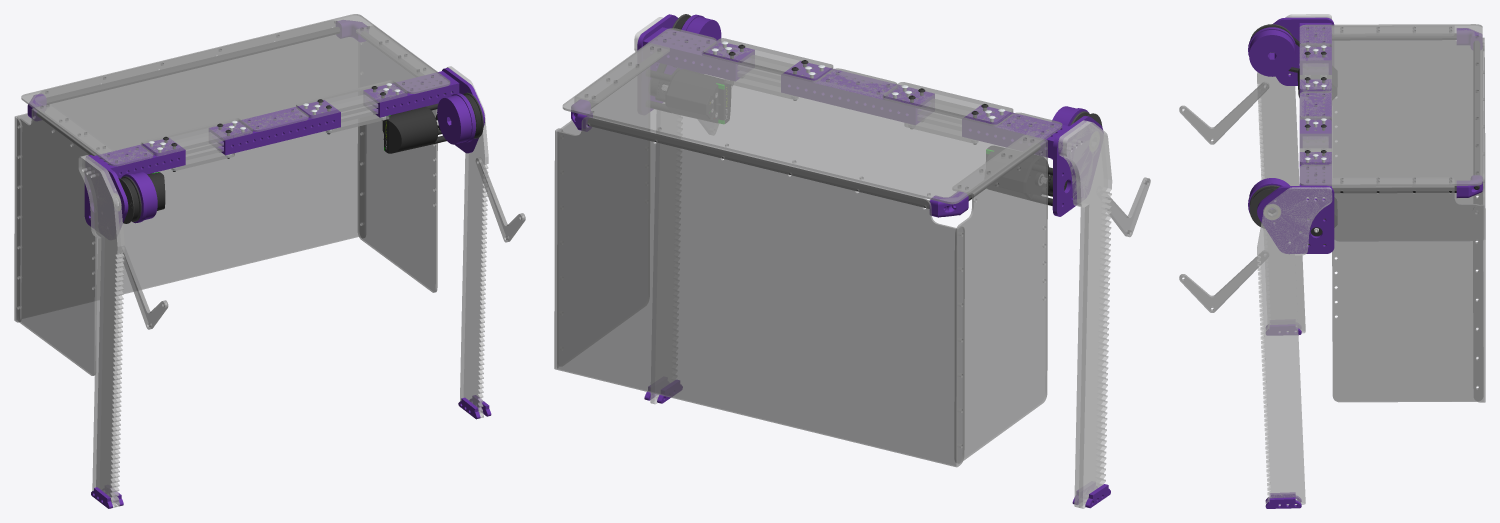
3 views of the same model, side by side, from view 1: azimuth 30°, elevation 25°; view 2: azimuth 150°, elevation 25°; view 3: azimuth 270°, elevation 25° (orthographic). The views are drawn at different scales.
Visible parts, largest first — view 1: 0200-Techo Poly Movible, 0200-Pared Poly Frontal, 10DP Gear Rack (35.5" L, #10-32 Clearance) (WCP-0543) (×3), 0200-Pared Poly Lateral Izquierda, 0200-Pared Poly Lateral Derecha, Part 1 (×5), perfil 3/16 5.25" (×2), 0200-Poly Hibrido Exterior 3 hoyos (×2), 0200-Flecha 3/8 21.5", Kraken X60 Brushless Motor, 0200-Kicker (×2), 0200-Poly Hibrido Interior (×2) (+1 smaller); view 2: 0200-Techo Poly Movible, 0200-Pared Poly Frontal, 10DP Gear Rack (35.5" L, #10-32 Clearance) (WCP-0543) (×3), 0200-Pared Poly Lateral Izquierda, 0200-Pared Poly Lateral Derecha, Part 1 (×3), perfil 3/16 5.25" (×2), 0200-Poly Hibrido Exterior 3 hoyos (×2), Kraken X60 Brushless Motor (×2), 0200-Flecha 3/8 21.5", 0200-Poly Hibrido Interior (×2), 0200-Kicker (+1 smaller); view 3: 0200-Pared Poly Lateral Derecha, 0200-Pared Poly Frontal, 0200-Pared Poly Lateral Izquierda, 10DP Gear Rack (35.5" L, #10-32 Clearance) (WCP-0543) (×3), Part 1 (×4), 0200-Techo Poly Movible, 0200-Poly Hibrido Exterior 3 hoyos (×2), 0200-Kicker (×2), perfil 3/16 5.25" (×2), 0200-Flecha 3/8 15" (×2), 0200-Flecha 3/8 21.5", 0200-Union 3D flechas 3/8 (×2) (+2 smaller).
Boxes of the visible parts, bbox=[...] form: 0200-Techo Poly Movible: bbox=[14, 21, 365, 322]; 0200-Pared Poly Frontal: bbox=[21, 14, 450, 166]; 10DP Gear Rack (35.5" L, #10-32 Clearance) (WCP-0543) (×3): bbox=[78, 66, 488, 507]; 0200-Pared Poly Lateral Izquierda: bbox=[16, 104, 113, 375]; 0200-Pared Poly Lateral Derecha: bbox=[356, 26, 437, 292]; Part 1 (×5): bbox=[84, 68, 484, 228]; perfil 3/16 5.25" (×2): bbox=[94, 71, 459, 178]; 0200-Poly Hibrido Exterior 3 hoyos (×2): bbox=[141, 80, 407, 156]; 0200-Flecha 3/8 21.5": bbox=[46, 27, 339, 104]; Kraken X60 Brushless Motor: bbox=[382, 106, 438, 153]; 0200-Kicker (×2): bbox=[120, 157, 525, 329]; 0200-Poly Hibrido Interior (×2): bbox=[175, 95, 378, 154]; 0200-Techo Poly Movible: bbox=[554, 116, 964, 467]; 0200-Pared Poly Frontal: bbox=[562, 28, 1062, 204]; 10DP Gear Rack (35.5" L, #10-32 Clearance) (WCP-0543) (×3): bbox=[634, 17, 1112, 508]; 0200-Pared Poly Lateral Izquierda: bbox=[953, 135, 1047, 463]; 0200-Pared Poly Lateral Derecha: bbox=[557, 44, 669, 365]; Part 1 (×3): bbox=[680, 14, 1103, 216]; perfil 3/16 5.25" (×2): bbox=[643, 27, 1068, 158]; 0200-Poly Hibrido Exterior 3 hoyos (×2): bbox=[703, 38, 1013, 125]; Kraken X60 Brushless Motor (×2): bbox=[662, 69, 1048, 200]; 0200-Flecha 3/8 21.5": bbox=[587, 118, 929, 208]; 0200-Poly Hibrido Interior (×2): bbox=[738, 55, 974, 123]; 0200-Kicker: bbox=[1106, 177, 1150, 237]; 0200-Pared Poly Lateral Derecha: bbox=[1332, 177, 1483, 402]; 0200-Pared Poly Frontal: bbox=[1299, 24, 1482, 186]; 0200-Pared Poly Lateral Izquierda: bbox=[1332, 26, 1482, 240]; 10DP Gear Rack (35.5" L, #10-32 Clearance) (WCP-0543) (×3): bbox=[1257, 14, 1332, 505]; Part 1 (×4): bbox=[1248, 17, 1334, 253]; 0200-Techo Poly Movible: bbox=[1472, 37, 1485, 402]; 0200-Poly Hibrido Exterior 3 hoyos (×2): bbox=[1299, 43, 1331, 165]; 0200-Kicker (×2): bbox=[1179, 81, 1269, 312]; perfil 3/16 5.25" (×2): bbox=[1299, 23, 1331, 187]; 0200-Flecha 3/8 15" (×2): bbox=[1332, 33, 1456, 193]; 0200-Flecha 3/8 21.5": bbox=[1473, 41, 1479, 174]; 0200-Union 3D flechas 3/8 (×2): bbox=[1456, 28, 1482, 197].
Bounding box in the file's own units: 0.6717 × 0.553 × 0.4831.
